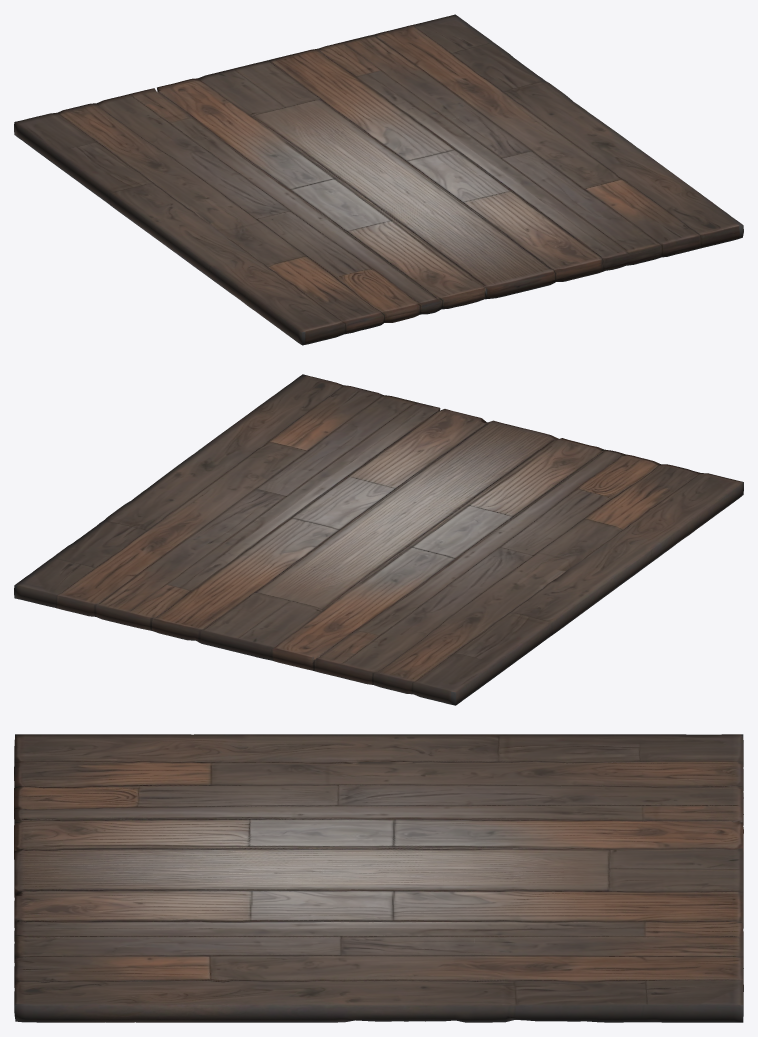
File: an_indoor_wooden_floo_0420193251_texture.fbx
The picture shows the model from 3 angles, top to bottom: view 1: azimuth 30°, elevation 25°; view 2: azimuth 150°, elevation 25°; view 3: azimuth 270°, elevation 25°; orthographic projection. The views are drawn at different scales.
Parts seen in each view (by area): view 1: input; view 2: input; view 3: input.
Boxes of the visible parts, box(x1,y1,x2,y2) form: input: box(14, 14, 743, 345); input: box(14, 374, 743, 705); input: box(14, 734, 743, 1022).
Bounding box in the file's own units: 177 × 5.16 × 200.
Materials: 1 (1 with a texture image).
